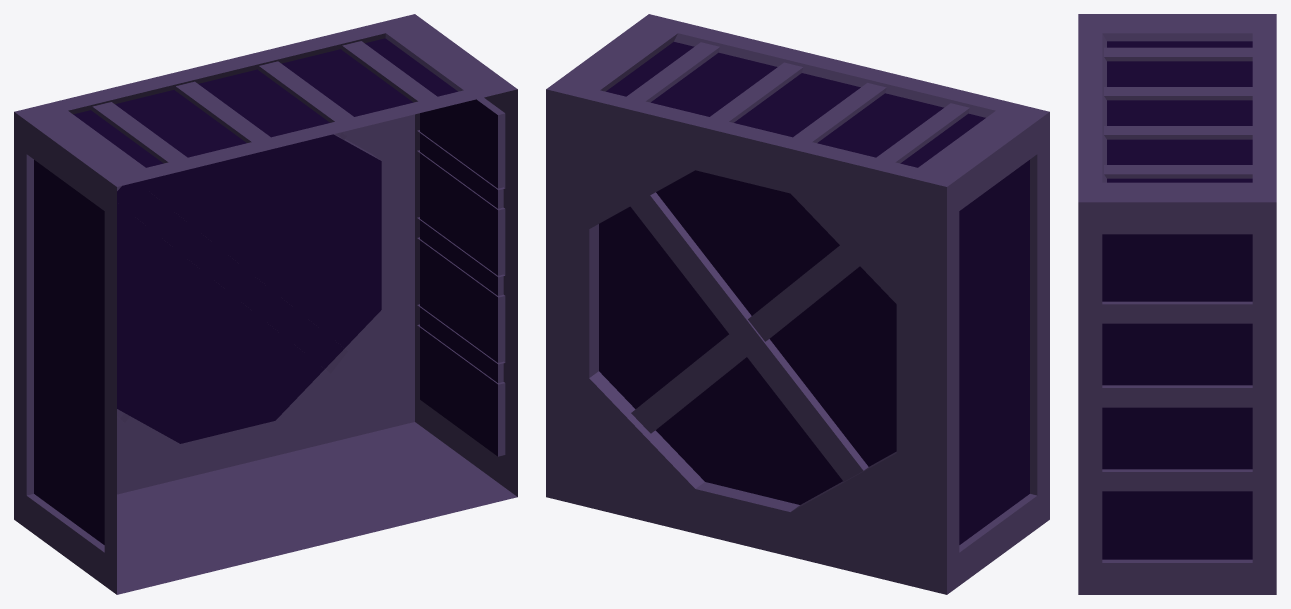
Rendered from FanSmall.fbx.
3 views of the same model, side by side, from view 1: azimuth 30°, elevation 25°; view 2: azimuth 150°, elevation 25°; view 3: azimuth 270°, elevation 25° (orthographic). The views are drawn at different scales.
Visible parts, largest first — view 1: Cube.002; view 2: Cube.002; view 3: Cube.002.
Boxes of the visible parts, x1,y1,x2,y2 form: Cube.002: (14, 14, 517, 594); Cube.002: (546, 14, 1049, 594); Cube.002: (1078, 14, 1276, 594).
Bounding box in the file's own units: 330 × 321 × 147.
